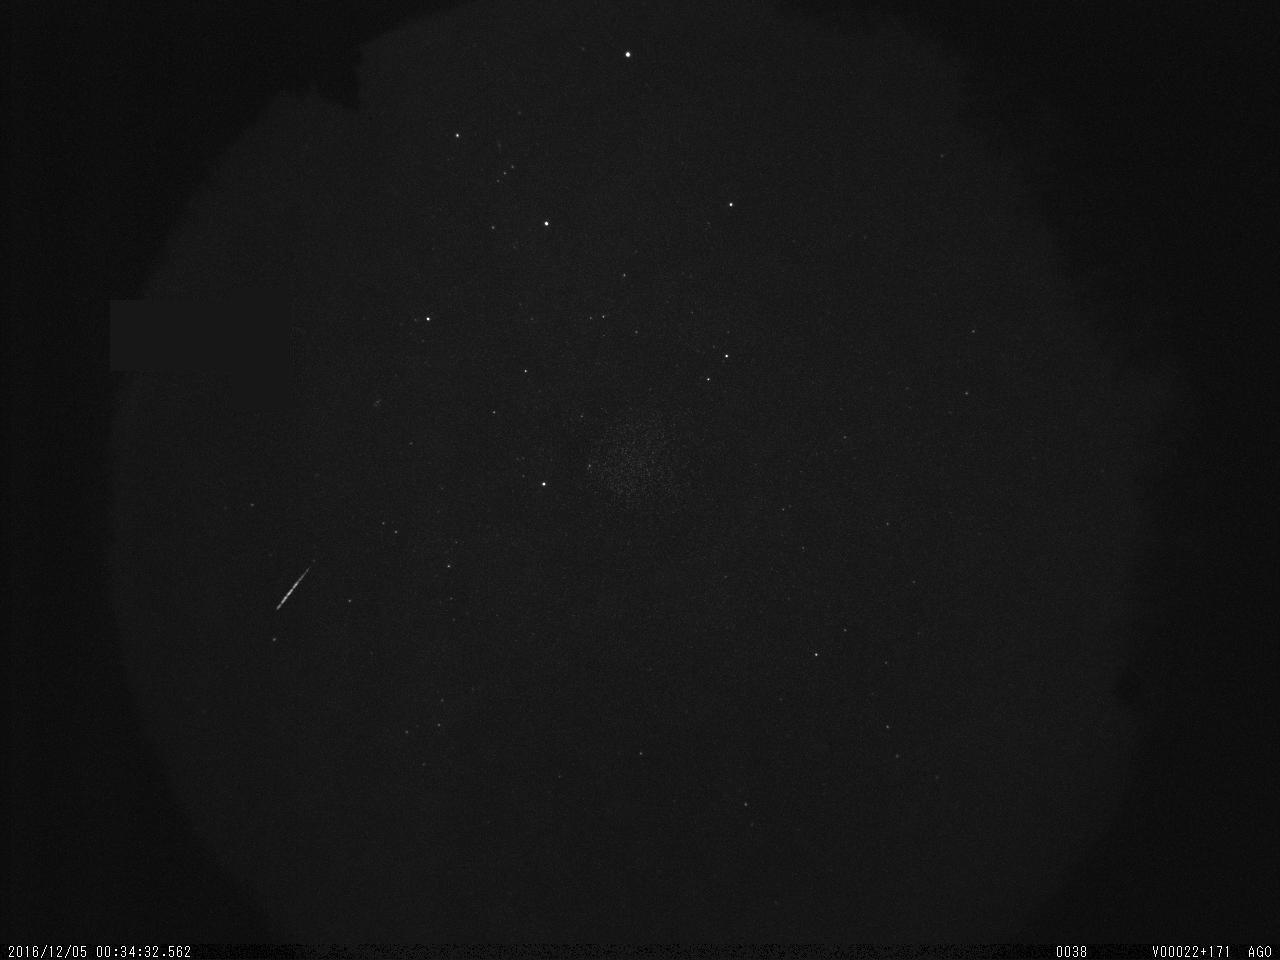meteor: (264, 542, 333, 615)
